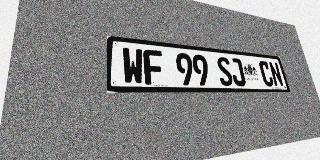9: (175, 52, 195, 85), (191, 54, 211, 85)
C: (258, 61, 275, 86)
F: (143, 49, 165, 85)
J: (229, 58, 247, 86)
N: (268, 62, 284, 87)
S: (216, 56, 234, 86)
W: (122, 47, 144, 85)
